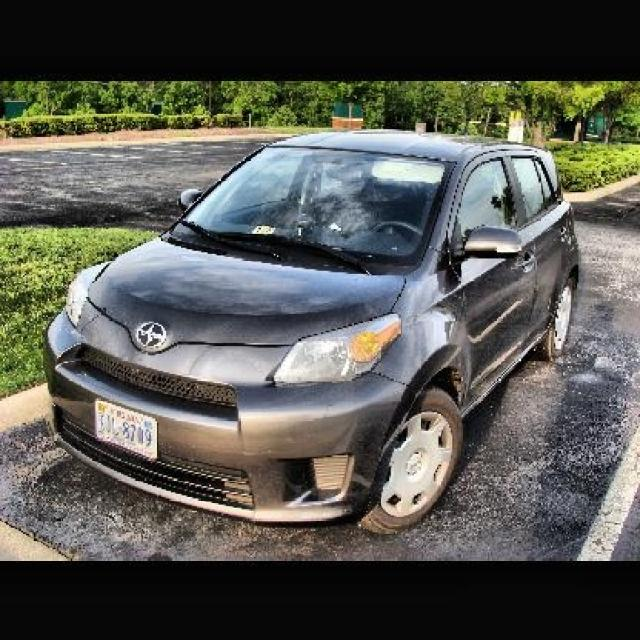black: (52, 132, 588, 511)
